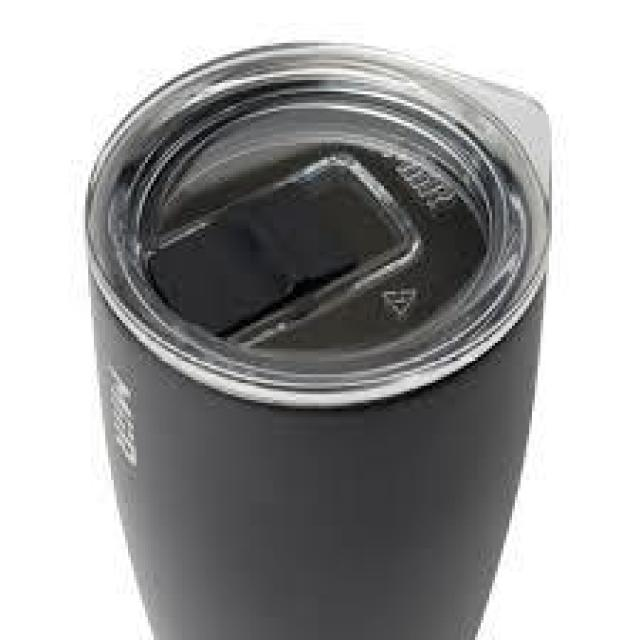bottle: (78, 37, 565, 640)
